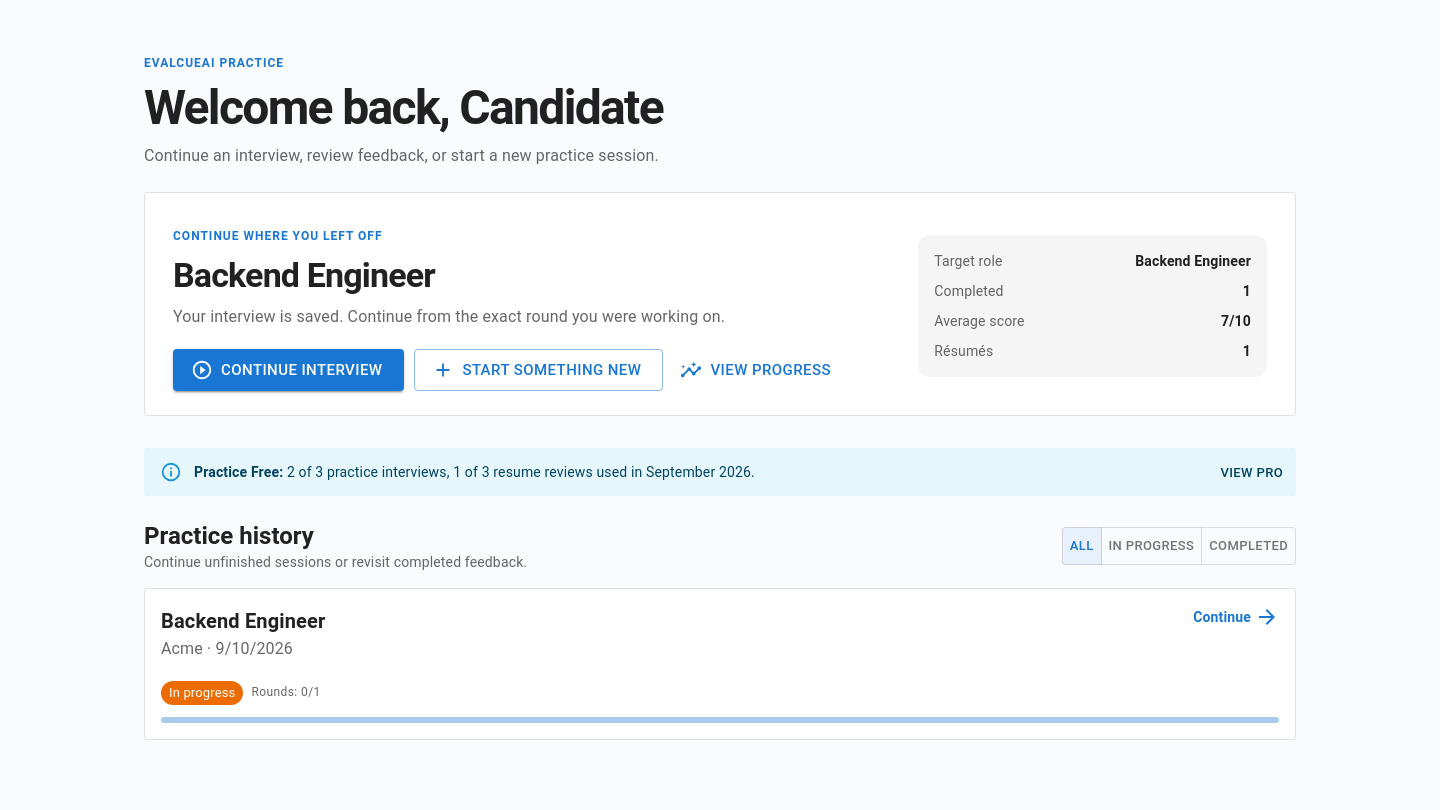
Scenario: Practice dashboard history filters › keeps filters visible when a selected status has zero results
expect the button "All" is shown: met, box x1=1062 y1=527 x2=1102 y2=566
expect the button "In progress" is shown: met, box x1=1101 y1=527 x2=1202 y2=566
Step 1. Click the button "Completed" → click(1249, 546), box x1=1201 y1=527 x2=1296 y2=566
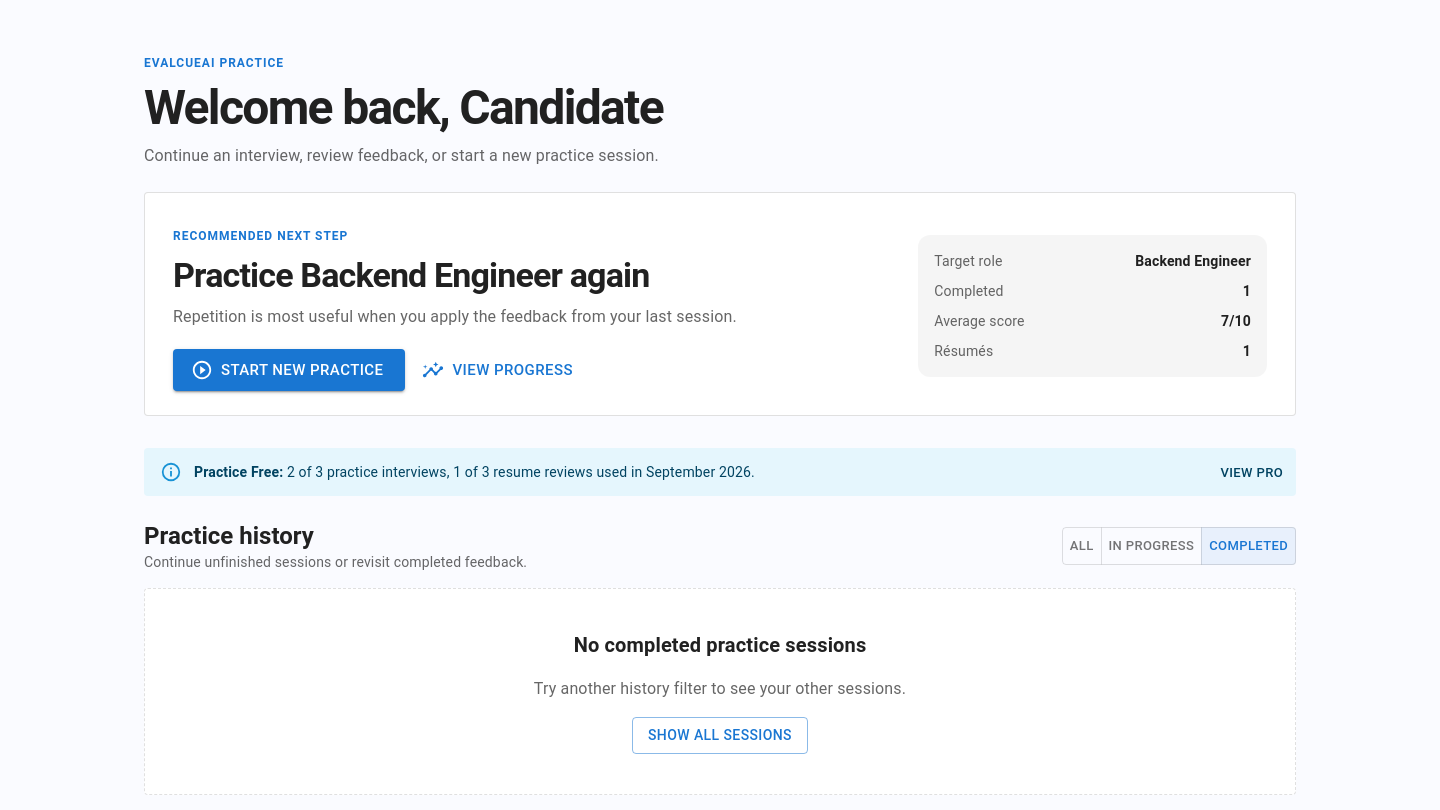
expect the button "All" is shown: met, box x1=1062 y1=527 x2=1102 y2=566
expect the heading "No completed practice sessions" is shown: met, box x1=574 y1=629 x2=866 y2=661
expect the button "Show all sessions" is shown: met, box x1=632 y1=717 x2=808 y2=754
